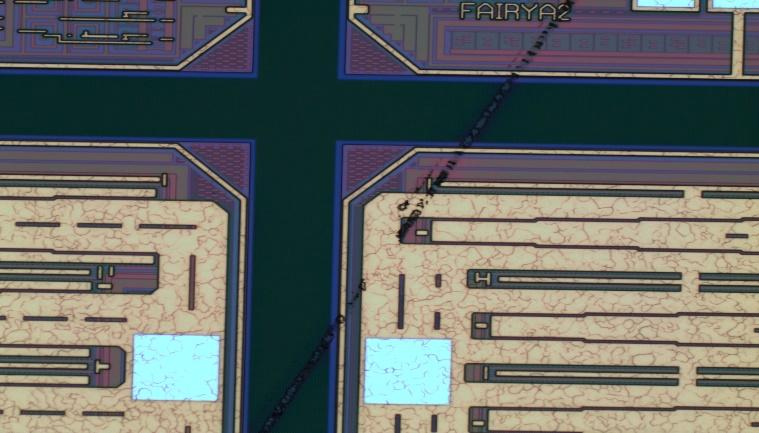SCRATCH: (249, 1, 583, 433)
